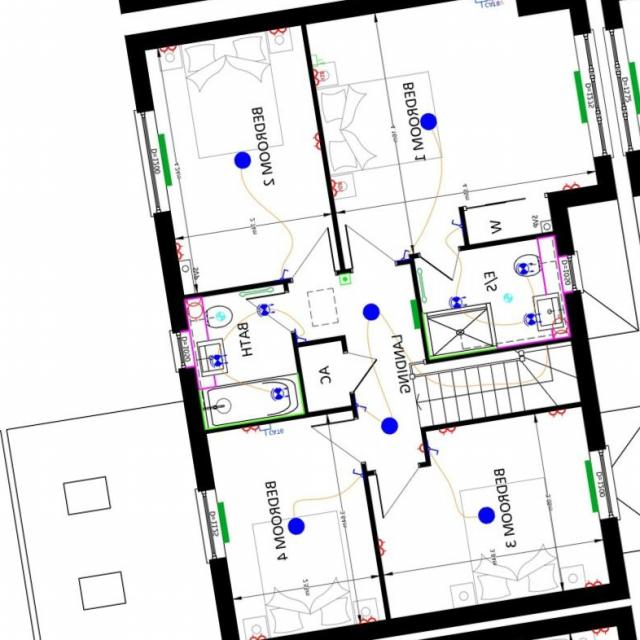Cat 6 Data Socket: (258, 424, 283, 437), (474, 0, 498, 13)
Ceiling Mounted Continuous Extract FanWith Boost Mode Activated By Light Switch: (215, 312, 225, 322), (502, 294, 512, 304)
Co-Ax TV Socket: (486, 0, 503, 8)
Double Socket: (438, 428, 455, 438), (311, 134, 321, 151), (269, 28, 286, 38), (562, 182, 579, 192), (585, 579, 601, 589), (359, 616, 375, 626), (159, 46, 175, 56), (241, 426, 258, 435), (377, 540, 386, 557), (591, 628, 609, 636), (175, 243, 183, 260), (248, 633, 266, 640), (548, 411, 564, 418)
Full Height Tiling: (198, 375, 304, 431), (421, 310, 496, 361)
Light Switch: (450, 220, 461, 230), (355, 404, 366, 413), (351, 470, 362, 479), (427, 448, 439, 456), (296, 335, 306, 343), (280, 270, 288, 280), (401, 250, 408, 261)
Low Energy Downlighter: (270, 388, 288, 403), (209, 354, 227, 369), (448, 296, 466, 311), (256, 304, 274, 318), (523, 314, 541, 328), (515, 264, 533, 277)
Low Energy Pendant Light: (380, 418, 398, 436), (362, 304, 380, 322), (477, 508, 494, 526), (419, 114, 436, 131), (288, 518, 304, 536), (233, 153, 250, 169)
Programmable Room Thermostat: (339, 274, 350, 286)
Radiator: (157, 134, 172, 188), (583, 461, 598, 514), (572, 72, 587, 124), (628, 64, 640, 115), (216, 503, 228, 544), (409, 300, 419, 330)
Shaver Socket: (550, 315, 568, 340), (186, 300, 202, 323)
Telephone Socket: (310, 56, 323, 68)
USB Double Socket: (311, 69, 325, 87), (329, 180, 342, 197)
